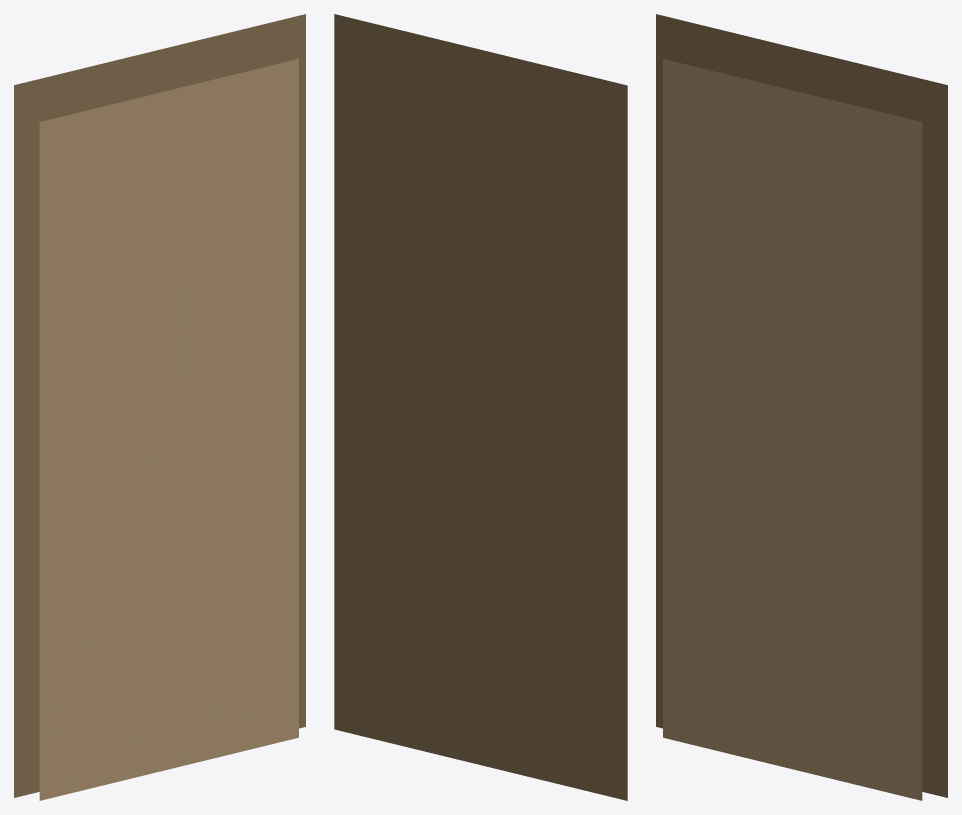
File: door.glb
3 renders of one model, left to right at view 1: azimuth 30°, elevation 25°; view 2: azimuth 150°, elevation 25°; view 3: azimuth 330°, elevation 25°, orthographic.
Visible parts, largest first — view 1: leaf, frame; view 2: frame; view 3: leaf, frame.
Part boxes in pixels (<box>): leaf: <box>39,59,298,800</box>; frame: <box>14,14,305,797</box>; frame: <box>334,14,627,800</box>; leaf: <box>663,59,922,800</box>; frame: <box>656,14,947,797</box>.
Bounding box in the file's own units: 0.9 × 2.1 × 0.05.
